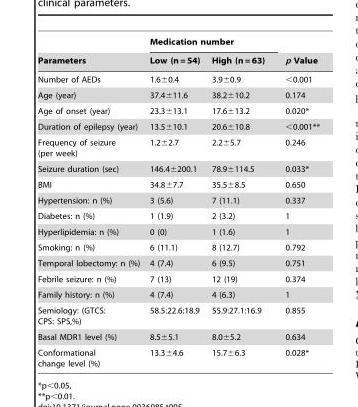table: (37, 37, 319, 367)
table column: (37, 37, 144, 367), (205, 37, 274, 367), (144, 37, 205, 367), (274, 37, 319, 367)
table column header: (37, 37, 319, 69)
table row: (37, 134, 319, 160), (37, 302, 319, 328), (37, 344, 319, 367), (37, 50, 319, 69), (37, 69, 319, 86), (37, 86, 319, 102), (37, 102, 319, 118), (37, 118, 319, 134), (37, 160, 319, 176), (37, 176, 319, 192), (37, 192, 319, 208), (37, 223, 319, 239), (37, 239, 319, 255), (37, 270, 319, 286), (37, 286, 319, 302), (37, 328, 319, 344), (37, 208, 319, 223), (37, 255, 319, 270), (37, 37, 319, 50)
table spanning cell: (37, 37, 144, 69), (144, 37, 274, 50), (274, 37, 319, 69)
